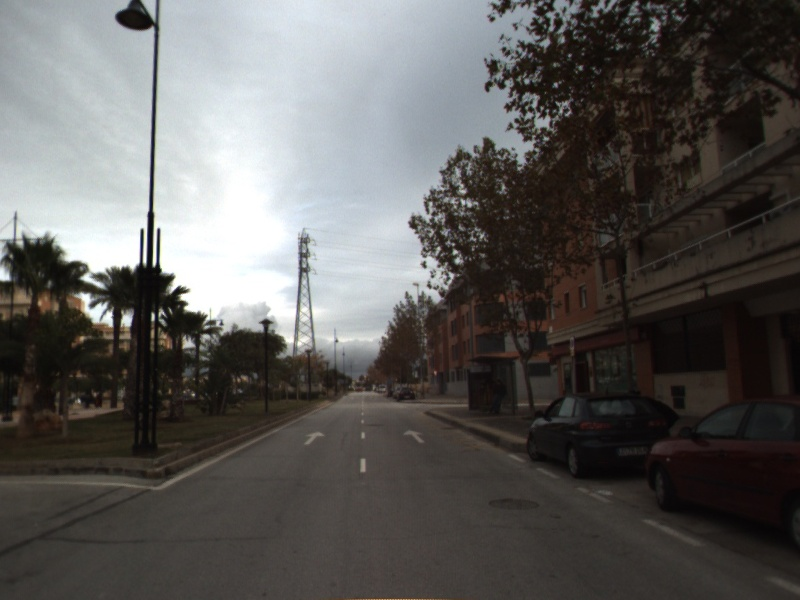STRAIGHT: (302, 429, 327, 447), (402, 428, 427, 445)
